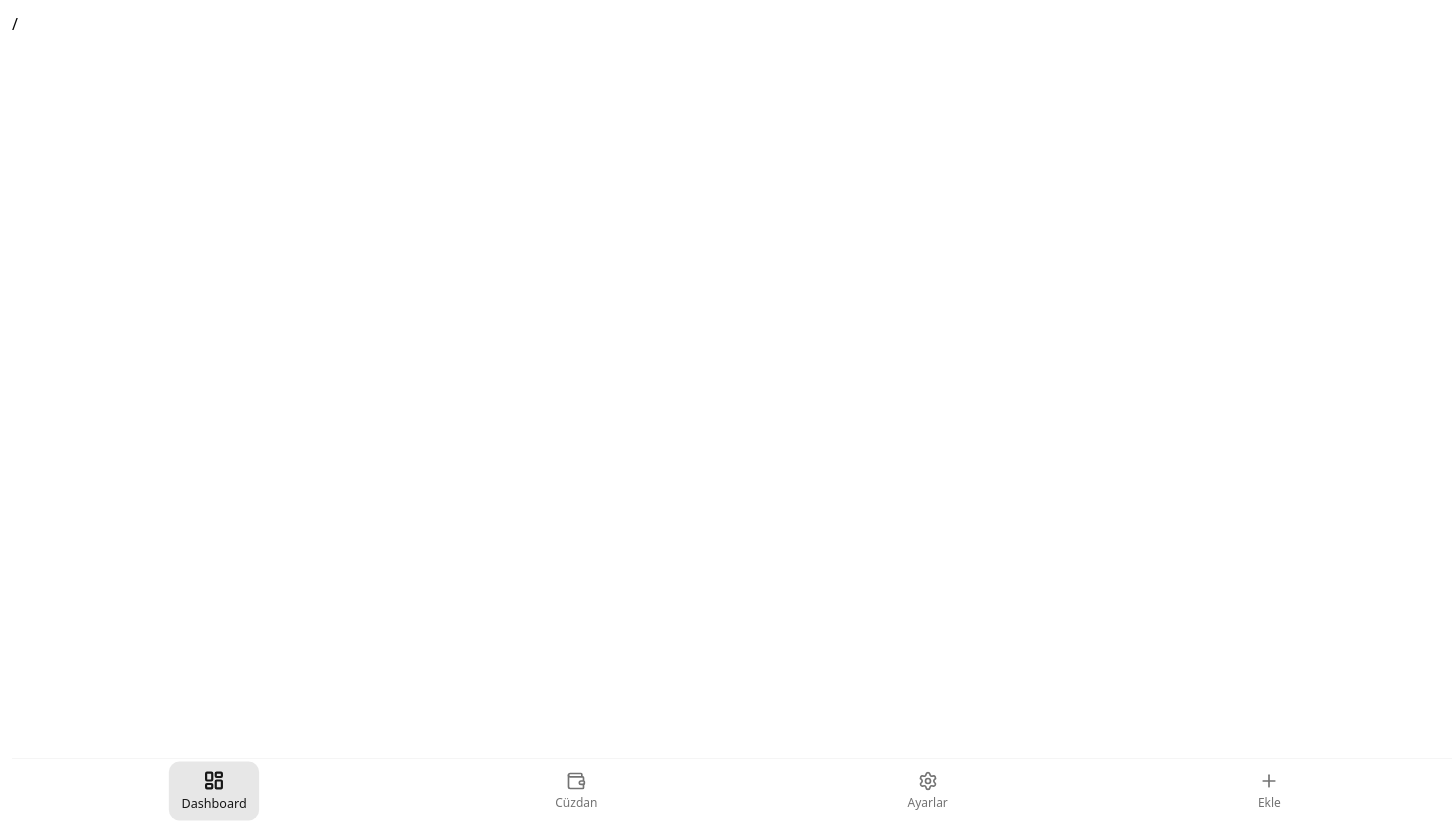
Scenario: BottomNav › Navigation (AC2, AC5) › should navigate to wallet when clicking Cüzdan
The image size is (1452, 822).
Click the link labelled "Cüzdan" at (576, 791), box [555, 771, 598, 811]
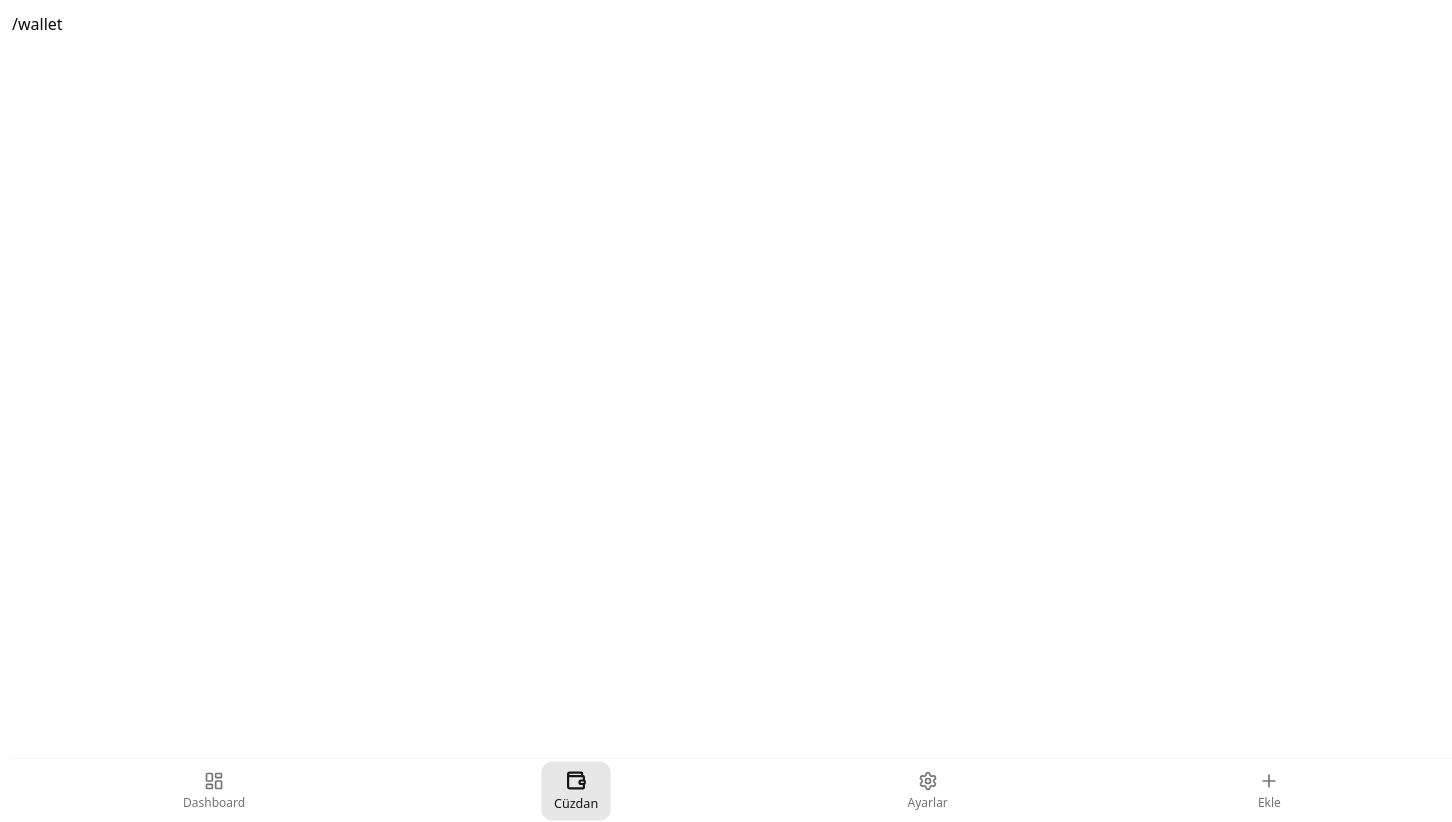
Check: the text with test id "current-location" reads "/wallet", box [12, 13, 63, 35]
